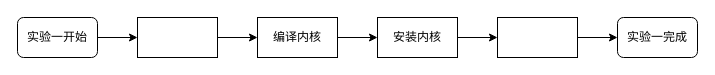
Some shapes in this 715 by 75 pixel diagram are drawn without their labels. Each missing label, with the centre of its shape:
测试: (x=537, y=37)
添加系统调用: (x=177, y=37)
